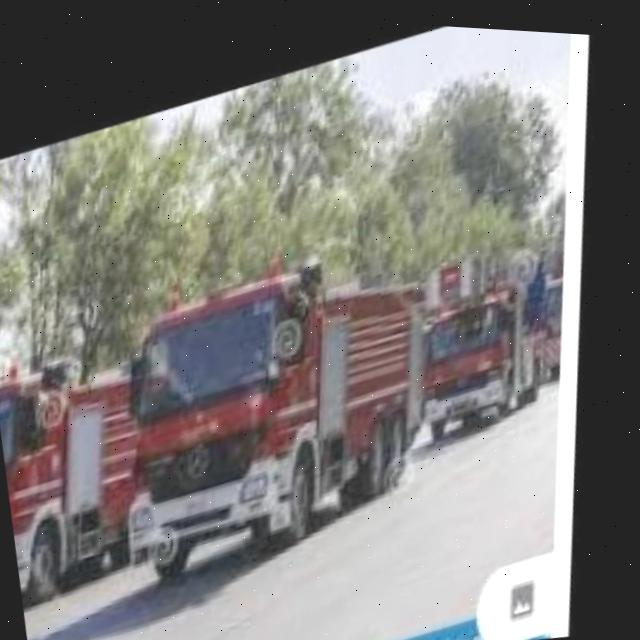emergency: (107, 231, 470, 598), (0, 330, 197, 615), (407, 254, 563, 450)
